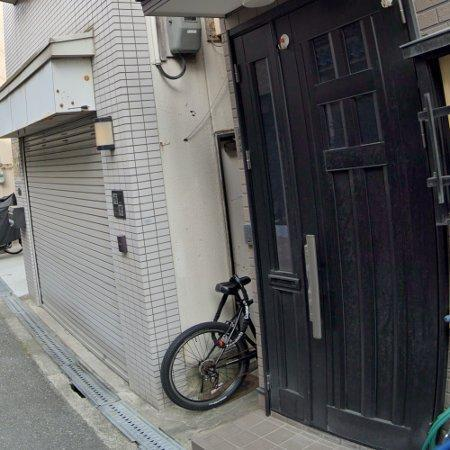bicycles: (161, 276, 257, 410)
